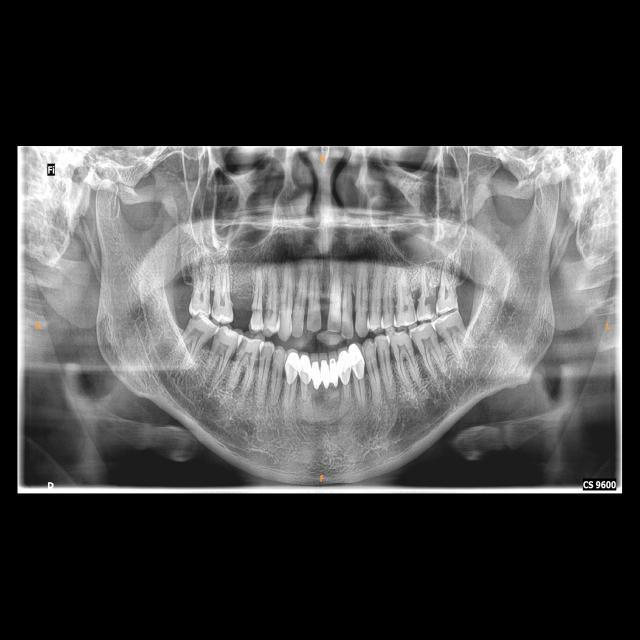dentin-curugu: (429, 293, 438, 315)
kaplama: (348, 344, 366, 379), (283, 349, 299, 382), (297, 354, 311, 384), (339, 352, 351, 384)
kopru: (311, 358, 339, 393)
